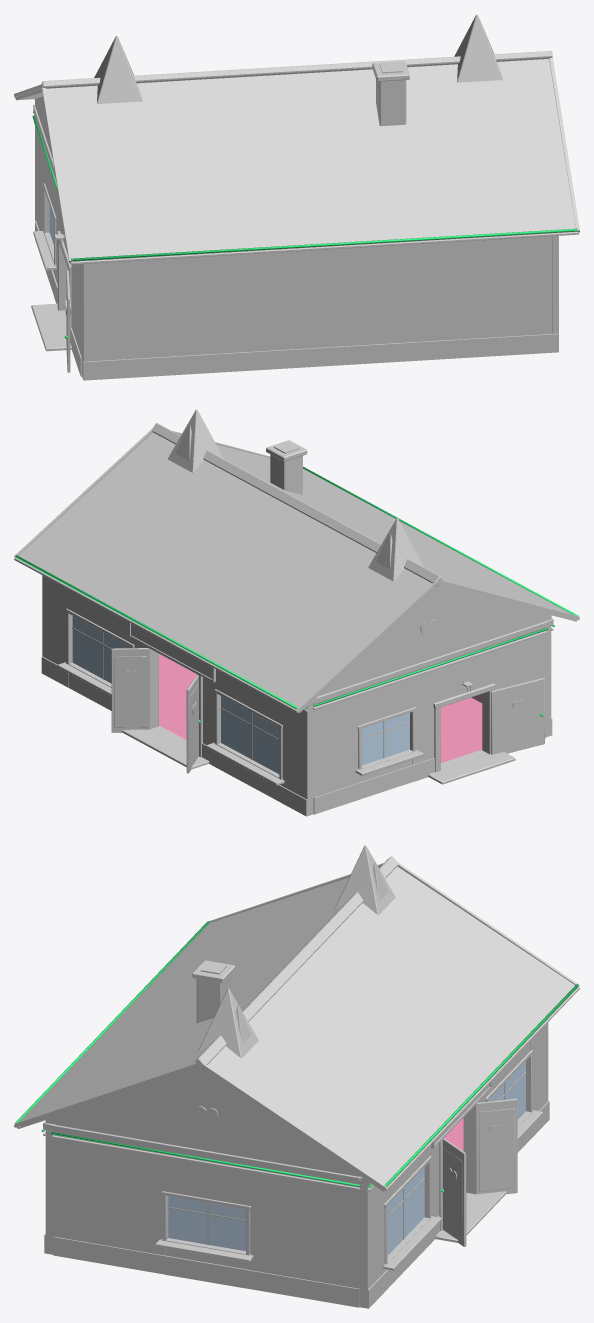
File: zon_bakery_raw.glb
The picture shows the model from 3 angles, top to bottom: view 1: azimuth 30°, elevation 25°; view 2: azimuth 150°, elevation 25°; view 3: azimuth 270°, elevation 25°; orthographic projection. The views are drawn at different scales.
Parts seen in each view (by area): view 1: SM_zon_bakery_kit_bakery_xm1_z1_raw, SM_zon_bakery_bakery_neon_xm1_z1_raw; view 2: SM_zon_bakery_kit_bakery_xm1_z1_raw, SM_zon_bakery_bakery_glass_xm1_z1_raw, SM_zon_bakery_bakery_floor_xm1_z1_raw, SM_zon_bakery_bakery_neon_xm1_z1_raw; view 3: SM_zon_bakery_kit_bakery_xm1_z1_raw, SM_zon_bakery_bakery_glass_xm1_z1_raw, SM_zon_bakery_bakery_neon_xm1_z1_raw.
Boxes of the visible parts, x1,y1,x2,y2 form: SM_zon_bakery_kit_bakery_xm1_z1_raw: (14, 14, 579, 380); SM_zon_bakery_bakery_neon_xm1_z1_raw: (32, 111, 577, 338); SM_zon_bakery_kit_bakery_xm1_z1_raw: (14, 409, 579, 816); SM_zon_bakery_bakery_glass_xm1_z1_raw: (72, 616, 409, 773); SM_zon_bakery_bakery_floor_xm1_z1_raw: (159, 654, 482, 762); SM_zon_bakery_bakery_neon_xm1_z1_raw: (15, 466, 578, 723); SM_zon_bakery_kit_bakery_xm1_z1_raw: (14, 845, 579, 1308); SM_zon_bakery_bakery_glass_xm1_z1_raw: (168, 1061, 525, 1255); SM_zon_bakery_bakery_neon_xm1_z1_raw: (15, 921, 578, 1192).
Bounding box in the file's own units: 18.63 × 8.81 × 16.73.
